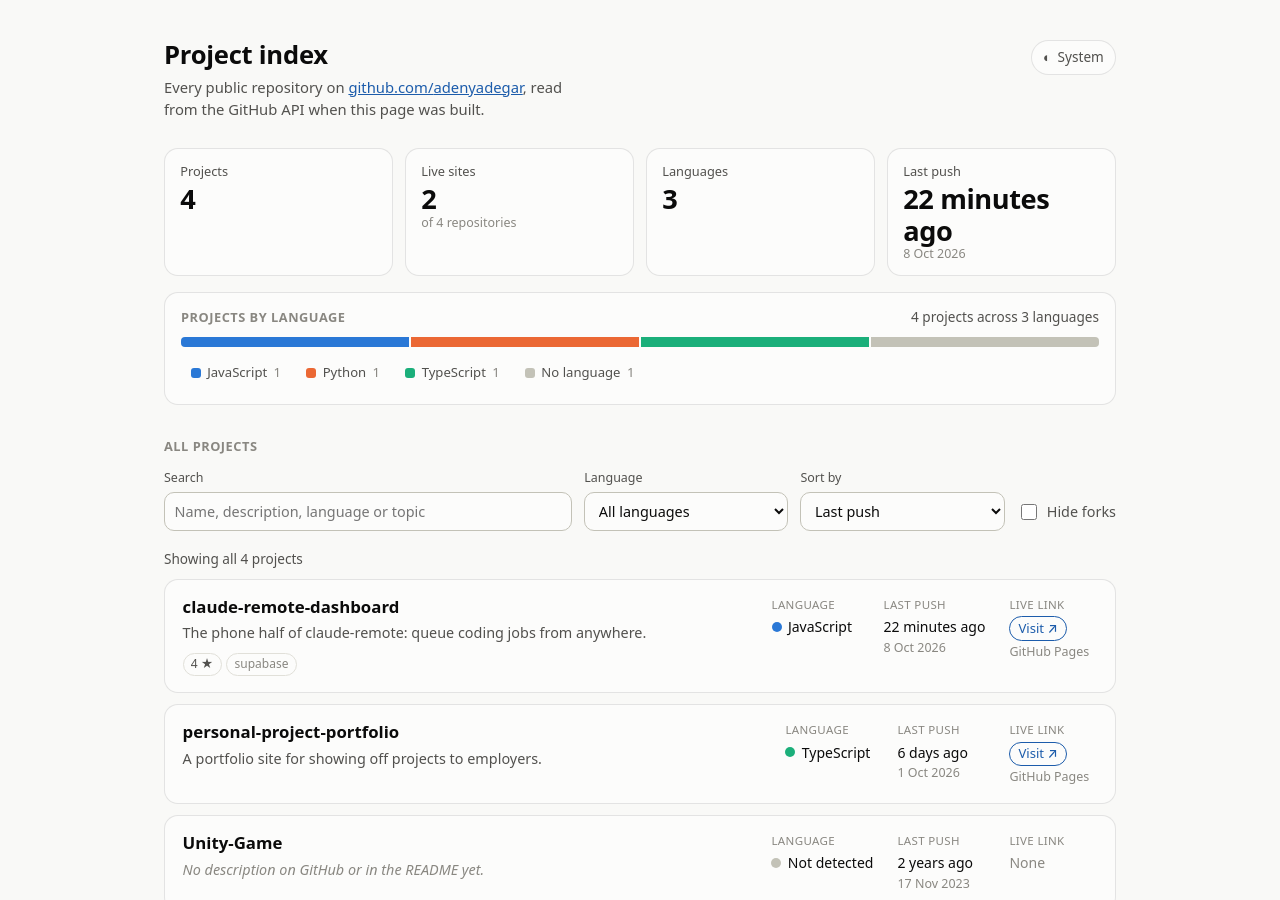
Test case: the index page › filters from the legend and keeps the select in step
Later steps or results of the test are not shown.
Step 1. Click the button "Python 1" → (343, 373), box [296, 358, 390, 388]
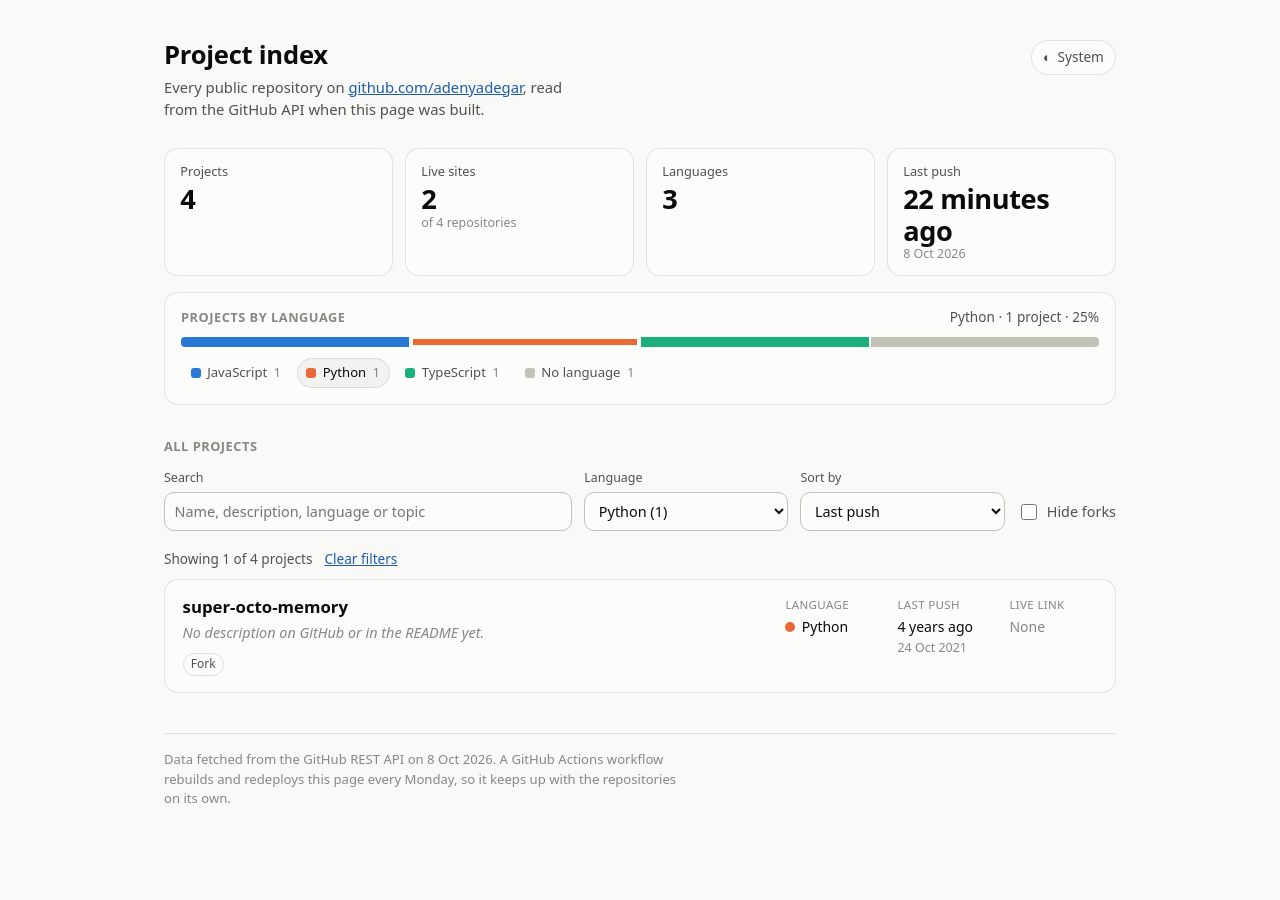
Result: the dropdown labelled "Language" shows "Python (1)" at [584, 492, 788, 531]
